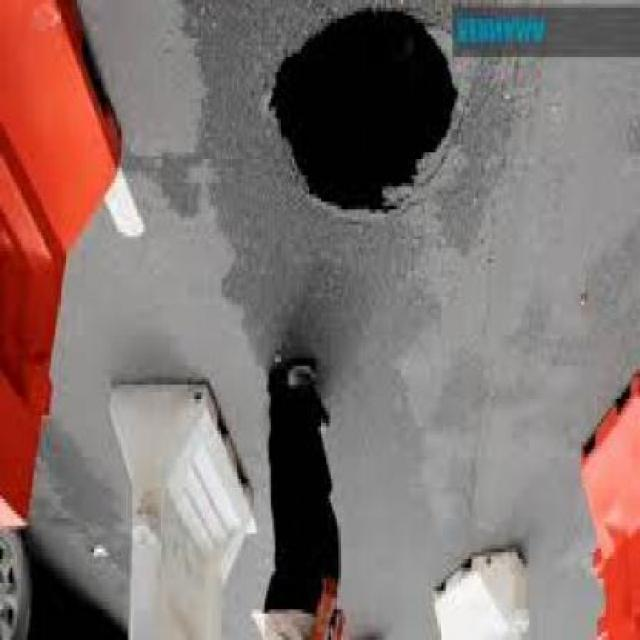pothole: (256, 4, 469, 236)
